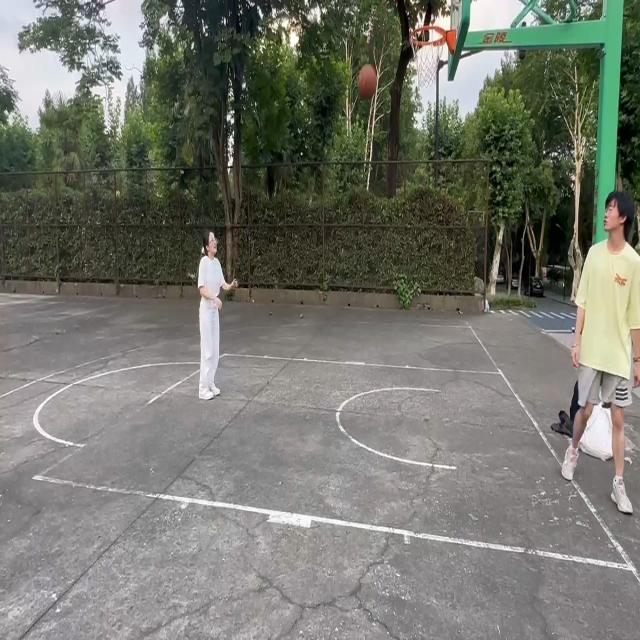basketball: (409, 24, 452, 90)
rim: (358, 65, 378, 99)
